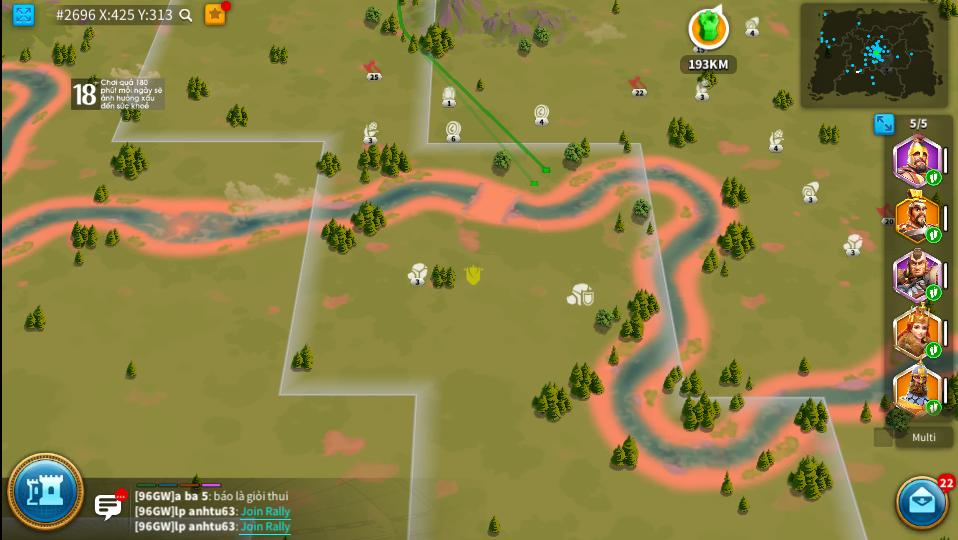gem-z-out: (440, 85, 459, 107)
march_marching: (925, 228, 942, 242), (926, 170, 940, 185), (927, 400, 941, 415), (926, 285, 940, 299), (928, 343, 940, 357)
